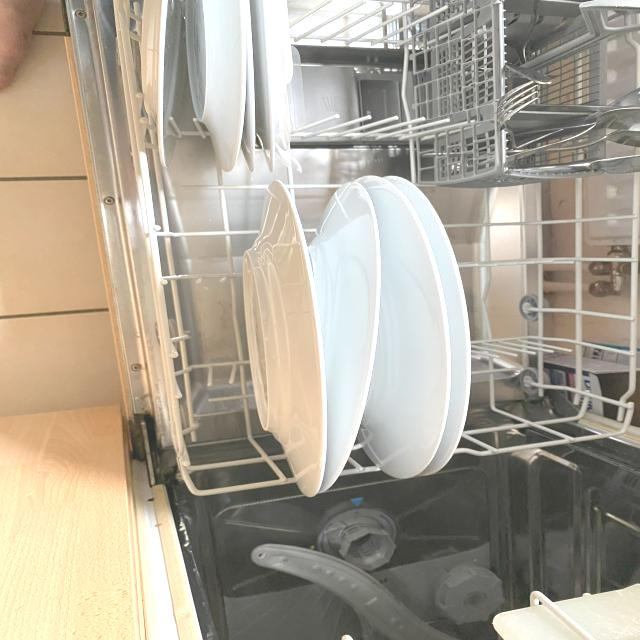clutery_bin: (496, 0, 621, 177)
empty_slot: (487, 180, 615, 430), (299, 0, 465, 162), (192, 197, 268, 456)
